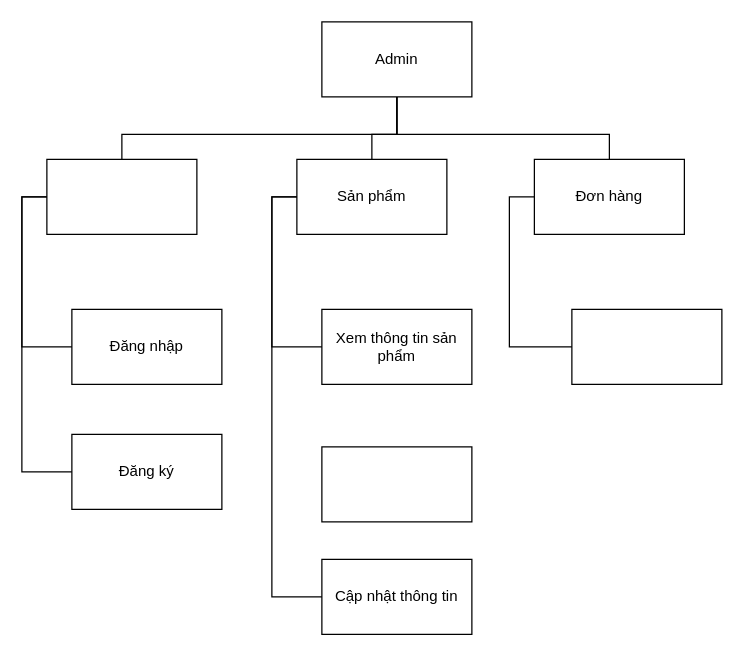
The diagram is 744 pixels wide and 656 high, and some of its shapes have lost their labels. The centre of each missing label's shape, as x and y in pixels:
Tài khoản: (121,196)
Tìm kiếm sản phẩm: (396,484)
Xử lý đơn: (646,346)
